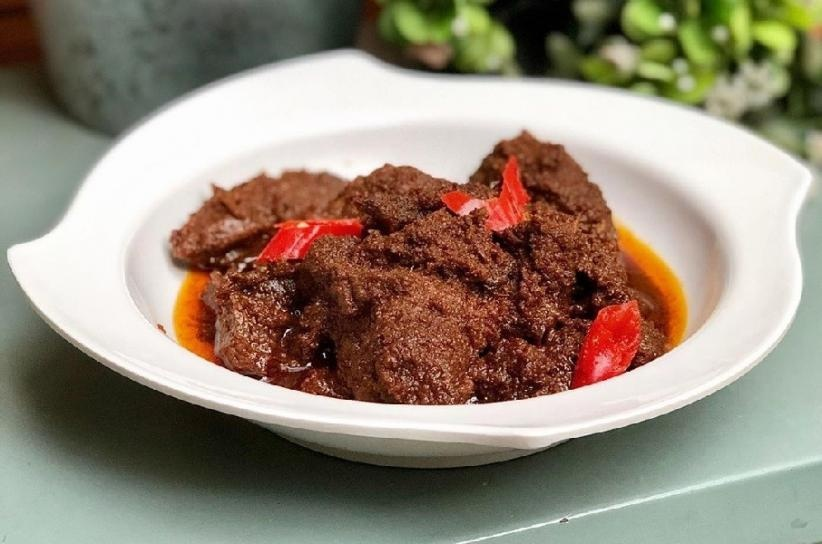Rendang: (167, 122, 667, 414)
